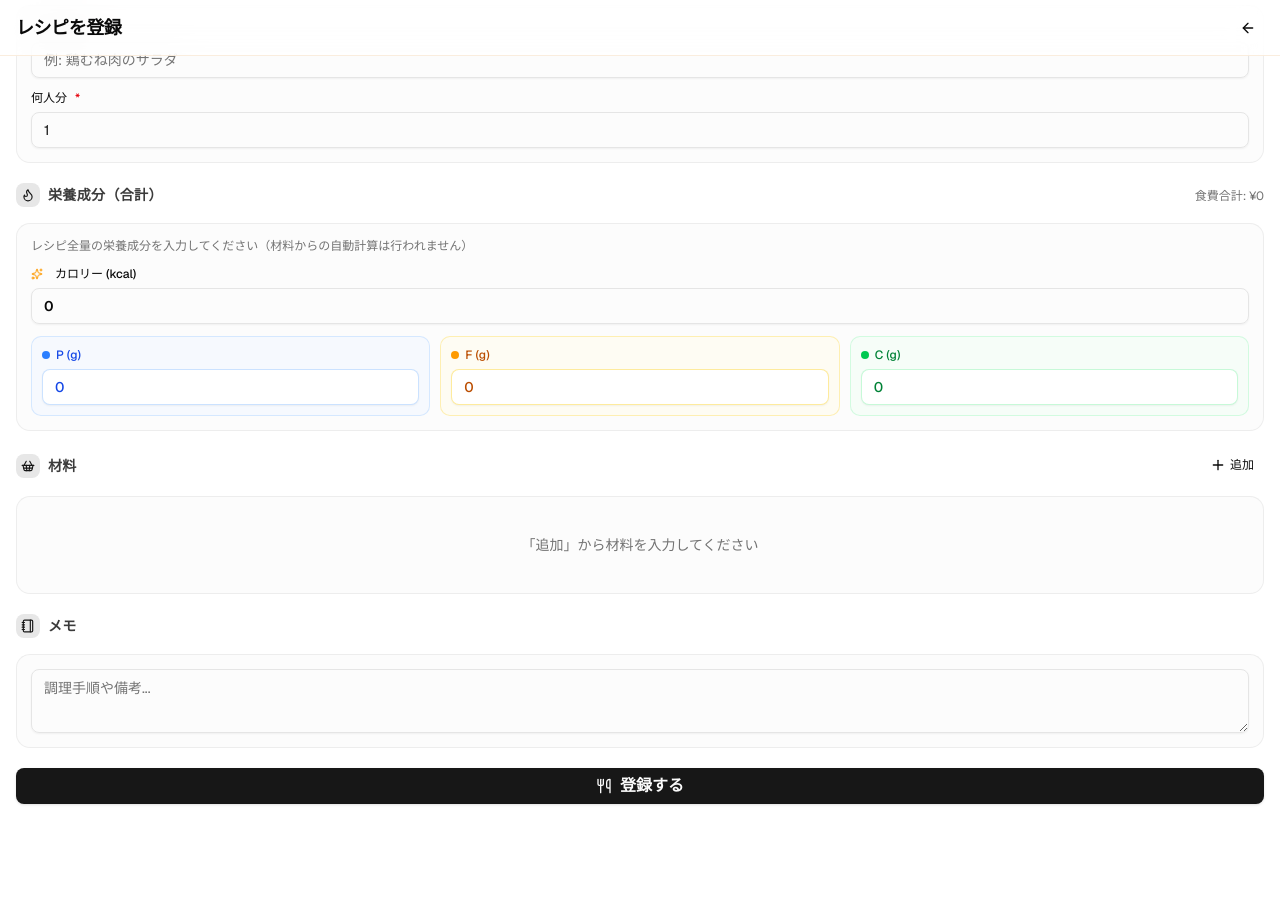
it: RecipeFormView (S-05 レシピ登録/編集) › 新規 › 02 バリデーション: 名前が空のまま登録すると、欄の下にエラーが出て保存しない
(page scrolled)
Step 1. Click the button "登録する" → (640, 786), box [16, 768, 1264, 804]
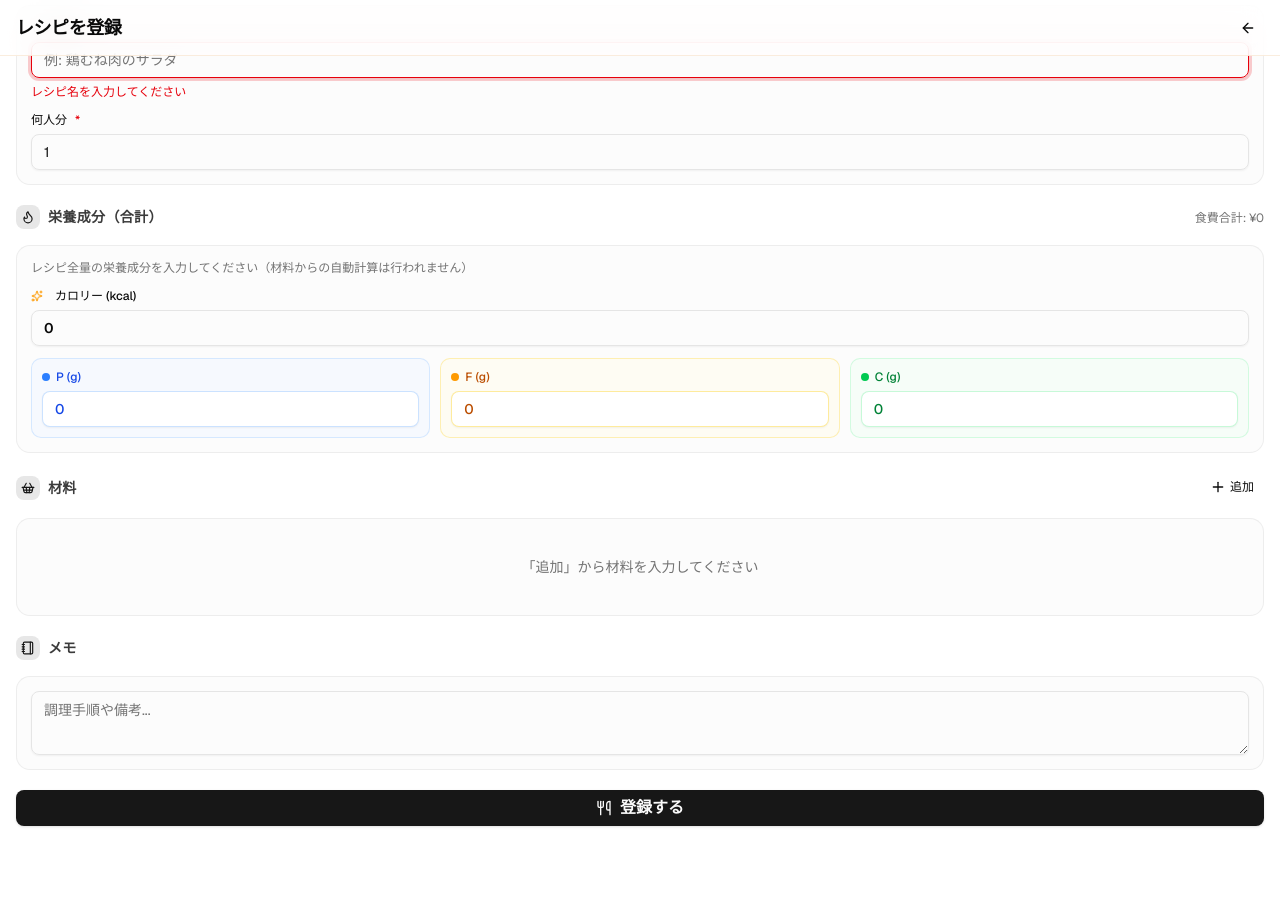
Result: the text "レシピ名を入力してください" is shown at [31, 84, 186, 100]
